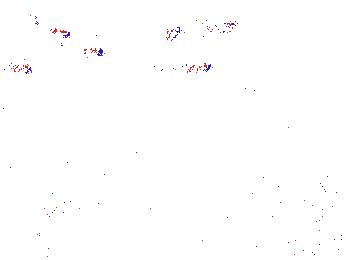glassfish: (75, 129, 188, 189)
red belly glassfish: (164, 58, 216, 76), (62, 41, 105, 59), (1, 59, 35, 77), (38, 22, 72, 40)
redtail glassfish: (160, 15, 235, 44)
